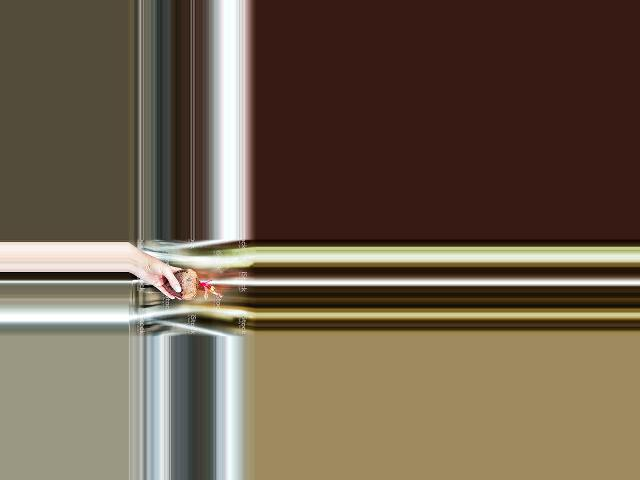beet: (164, 269, 221, 300)
